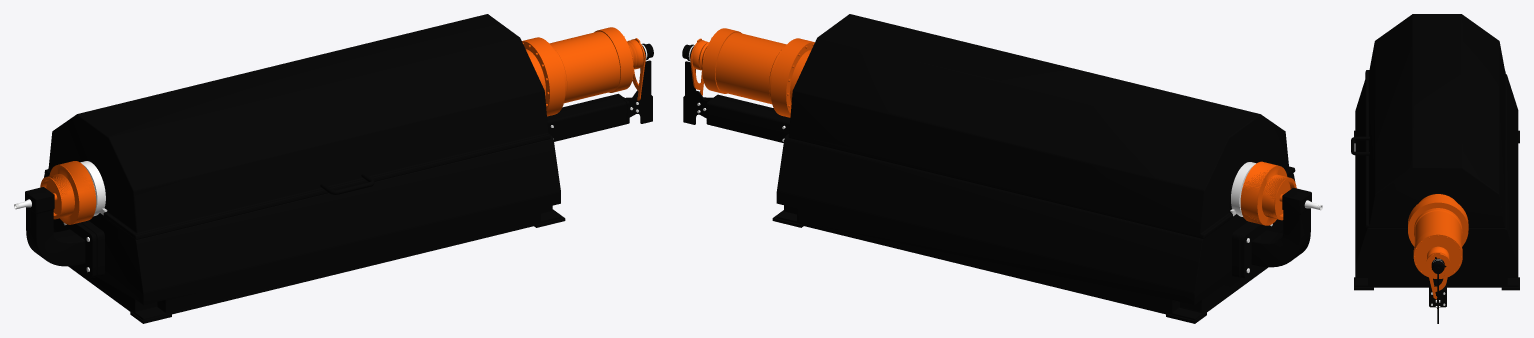
The model's file is MudCentrifuge.glb.
The picture shows the model from 3 angles, left to right: view 1: azimuth 30°, elevation 25°; view 2: azimuth 150°, elevation 25°; view 3: azimuth 270°, elevation 25°; orthographic projection. The views are drawn at different scales.
Visible parts, largest first — view 1: 101; view 2: 101; view 3: 101.
Boxes of the visible parts, left/top/right/bottom form: 101: left=14, top=14, right=653, bottom=323; 101: left=682, top=14, right=1322, bottom=323; 101: left=1351, top=14, right=1519, bottom=323.
Size of the model in its own units: 3.18 by 0.7514 by 0.9542.
